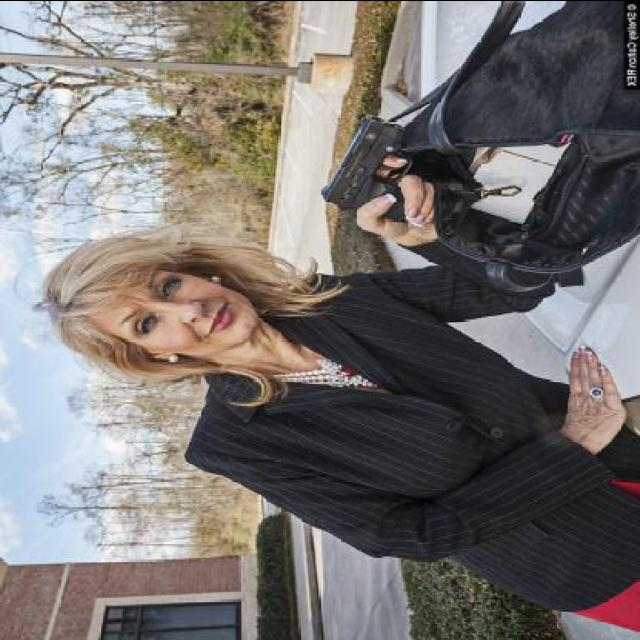pistol: (315, 115, 414, 225)
